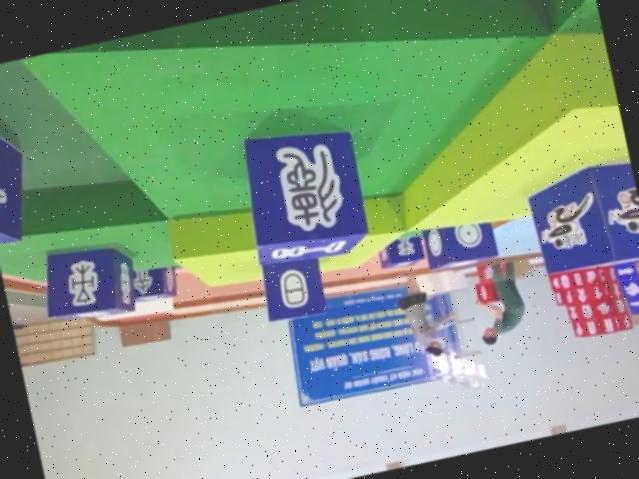R1 Blue: (521, 154, 639, 280)
R2 Fake Blue: (229, 116, 372, 273), (255, 251, 327, 323), (125, 264, 178, 306)
R2 Real Blue: (30, 234, 139, 328), (0, 82, 38, 245), (416, 213, 497, 272), (376, 233, 426, 272)
